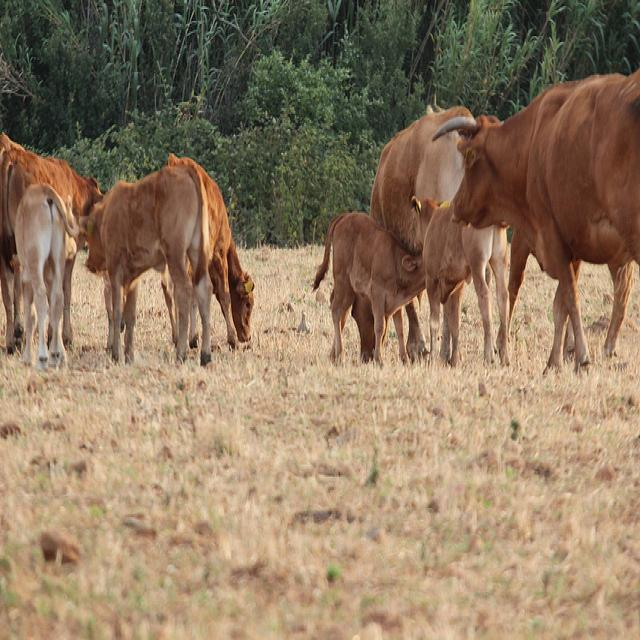cow: (431, 66, 639, 376), (349, 108, 470, 361), (78, 156, 211, 364), (0, 147, 104, 355), (159, 152, 254, 347), (408, 189, 509, 364), (312, 210, 425, 364), (14, 180, 78, 366)
